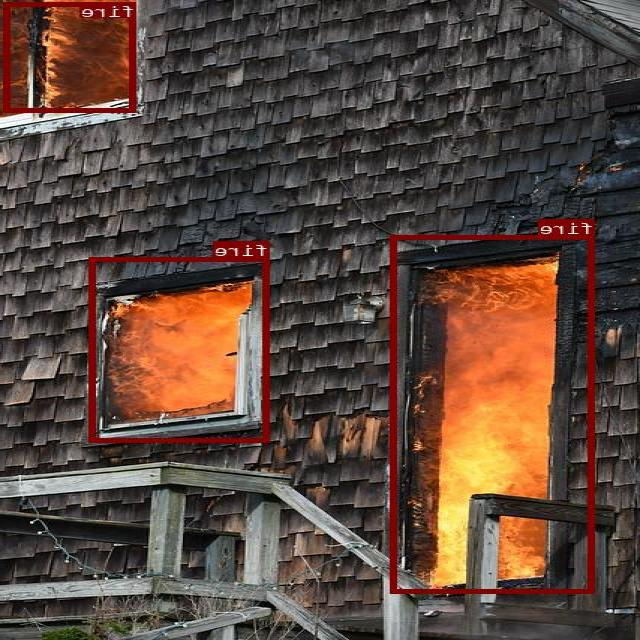fire: (392, 234, 596, 592), (91, 256, 270, 442), (4, 1, 138, 112)
